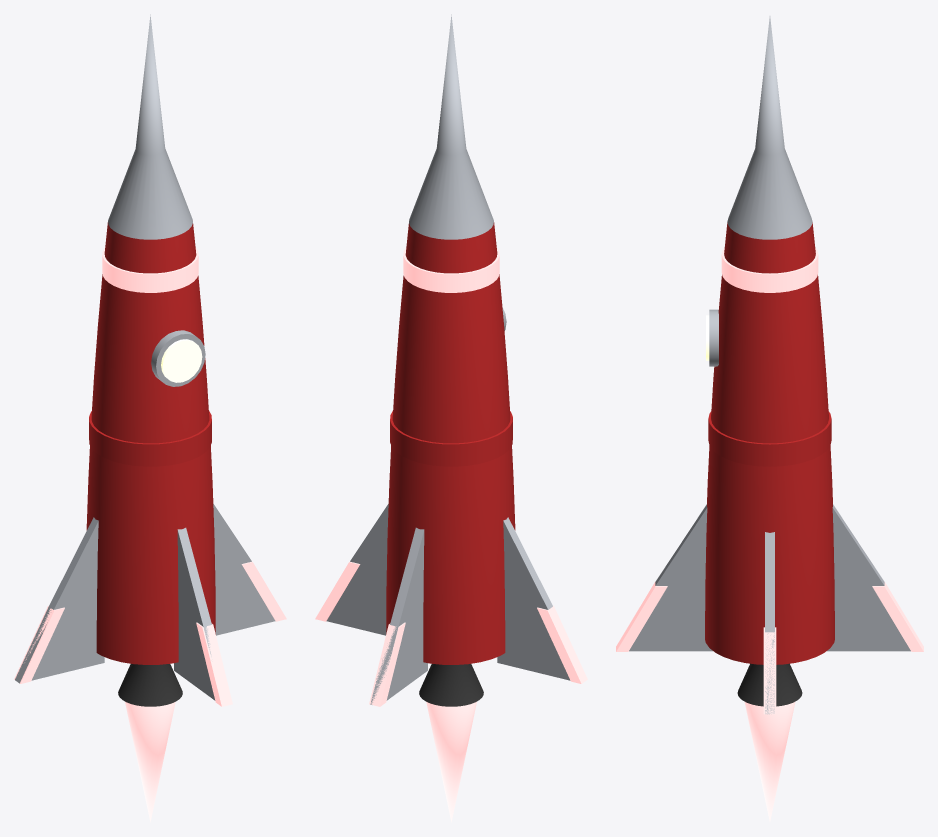
File: Rocket_28_ScarletSpear.fbx
3 views of the same model, side by side, from view 1: azimuth 30°, elevation 25°; view 2: azimuth 150°, elevation 25°; view 3: azimuth 270°, elevation 25° (orthographic).
Parts seen in each view (by area): view 1: R28_Body, R28_Nose, R28_Fin_2, R28_Fin_4, R28_Fin_3, R28_Band_1, R28_Flame_1, R28_Nozzle_1, R28_Band_2, R28_Window_1, R28_FinGlow_3, R28_FinGlow_2 (+2 smaller); view 2: R28_Body, R28_Nose, R28_Fin_2, R28_Fin_1, R28_Fin_4, R28_Band_1, R28_Flame_1, R28_Nozzle_1, R28_Band_2, R28_FinGlow_2, R28_FinGlow_1, R28_FinGlow_4; view 3: R28_Body, R28_Nose, R28_Fin_1, R28_Fin_3, R28_Band_1, R28_Flame_1, R28_Band_2, R28_Nozzle_1, R28_Fin_4, R28_FinGlow_4, R28_FinGlow_1, R28_FinGlow_3 (+1 smaller).
Boxes of the visible parts, x1,y1,x2,y2 form: R28_Body: (86, 222, 215, 664); R28_Nose: (108, 14, 192, 239); R28_Fin_2: (15, 517, 104, 683); R28_Fin_4: (213, 504, 275, 635); R28_Fin_3: (174, 527, 215, 700); R28_Band_1: (89, 411, 211, 466); R28_Flame_1: (125, 701, 175, 822); R28_Nozzle_1: (118, 664, 182, 706); R28_Band_2: (102, 247, 198, 292); R28_Window_1: (161, 339, 202, 382); R28_FinGlow_3: (196, 622, 232, 706); R28_FinGlow_2: (14, 605, 64, 683); R28_Body: (386, 222, 515, 664); R28_Nose: (409, 14, 493, 239); R28_Fin_2: (497, 517, 570, 680); R28_Fin_1: (370, 527, 427, 704); R28_Fin_4: (326, 504, 388, 635); R28_Band_1: (390, 411, 512, 466); R28_Flame_1: (426, 701, 476, 822); R28_Nozzle_1: (419, 664, 483, 706); R28_Band_2: (403, 247, 499, 292); R28_FinGlow_2: (537, 605, 587, 683); R28_FinGlow_1: (369, 622, 405, 706); R28_FinGlow_4: (315, 561, 360, 621); R28_Body: (705, 222, 834, 664); R28_Nose: (727, 16, 812, 239); R28_Fin_1: (827, 504, 910, 651); R28_Fin_3: (629, 504, 712, 651); R28_Band_1: (708, 411, 831, 466); R28_Flame_1: (744, 701, 795, 821); R28_Band_2: (721, 248, 818, 292); R28_Nozzle_1: (737, 663, 802, 706); R28_Fin_4: (765, 532, 774, 714); R28_FinGlow_4: (763, 627, 776, 714); R28_FinGlow_1: (872, 581, 923, 651); R28_FinGlow_3: (616, 581, 667, 651).
Bounding box in the file's own units: 3.76 × 10.9 × 3.76.
